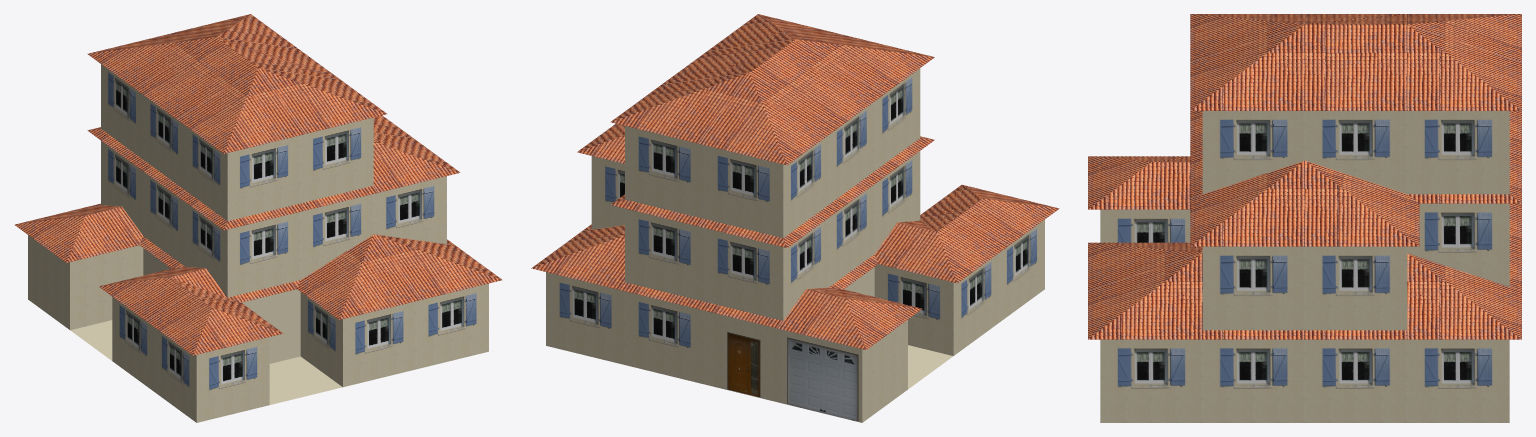
File: house_south.obj
3 views of the same model, side by side, from view 1: azimuth 30°, elevation 25°; view 2: azimuth 150°, elevation 25°; view 3: azimuth 270°, elevation 25° (orthographic). The views are drawn at different scales.
Visible parts, largest first — view 1: Building; view 2: Building; view 3: Building.
Part boxes in pixels (x1,y1,x2,y2): Building: (14,14,502,422); Building: (531,14,1059,422); Building: (1088,14,1521,422).
Bounding box in the file's own units: 10.6 × 8.41 × 10.6.
2 materials, 2 textured.
